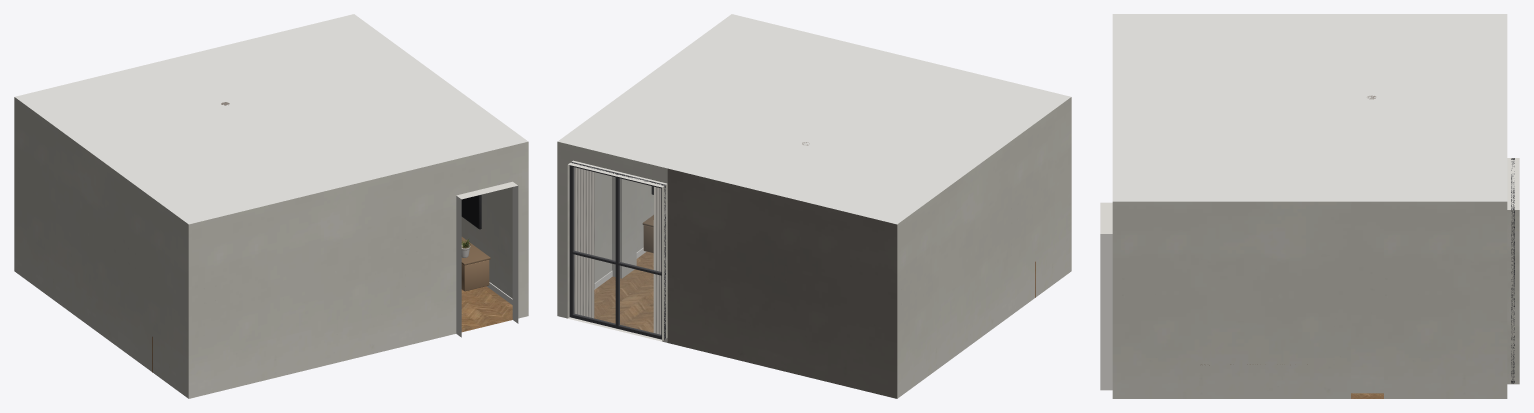
Rendered from room-high.glb.
The picture shows the model from 3 angles, left to right: view 1: azimuth 30°, elevation 25°; view 2: azimuth 150°, elevation 25°; view 3: azimuth 270°, elevation 25°; orthographic projection. The views are drawn at different scales.
Parts seen in each view (by area): view 1: ROOM; view 2: ROOM, GLASS_window; view 3: ROOM.
Part boxes in pixels (box(x1,y1,x2,y2)): ROOM: box(14, 14, 528, 398); ROOM: box(557, 14, 1071, 398); GLASS_window: box(573, 167, 660, 334); ROOM: box(1100, 14, 1519, 398).
Bounding box in the file's own units: 5.4 × 2.65 × 5.1.
Materials: 31 (13 with a texture image).
